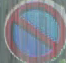No waiting: (3, 2, 61, 56)
